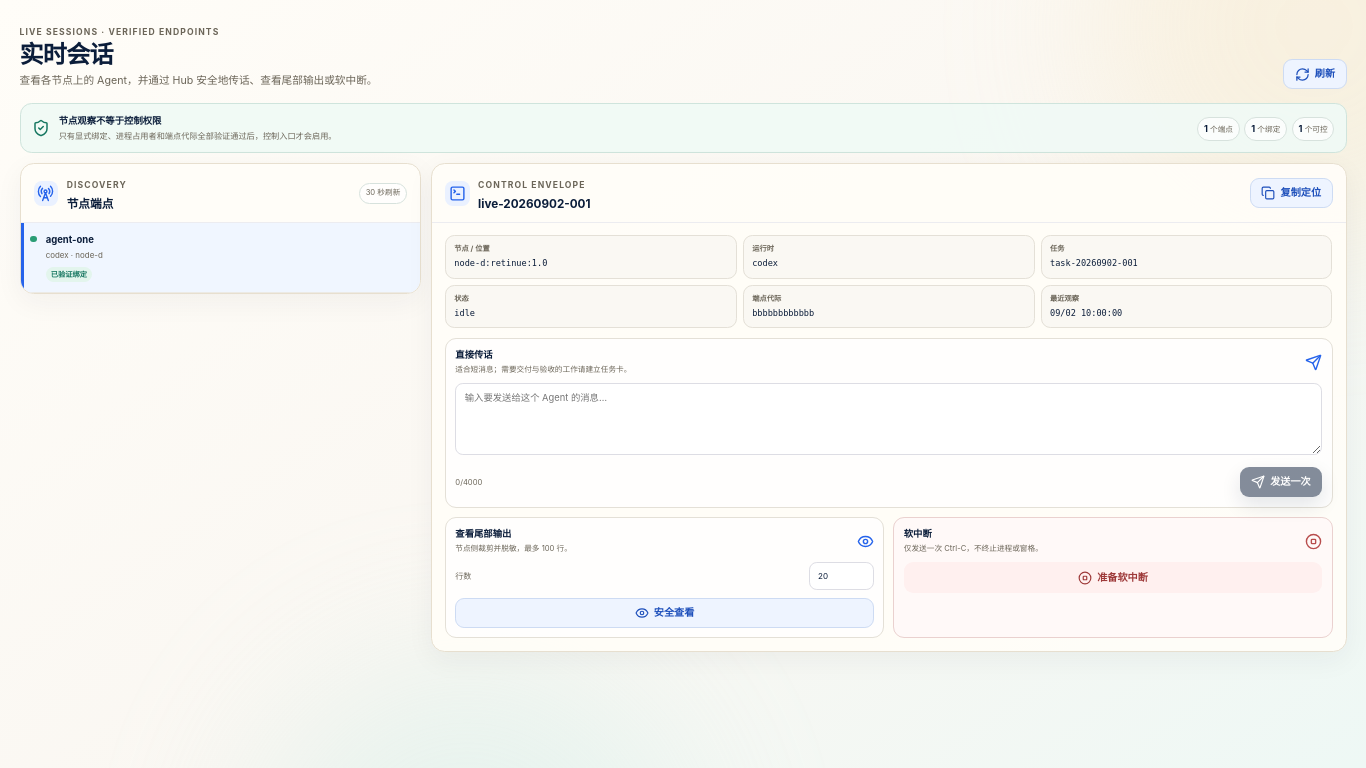
Test: LiveSessions › queues a tell through the Hub control endpoint
Check: the text "agent-one" is shown, box [46, 234, 94, 245]
In the text box with placeholder "输入要发送给这个 Agent 的消息…": (889,419) [455, 383, 1322, 455], type "同步进度"
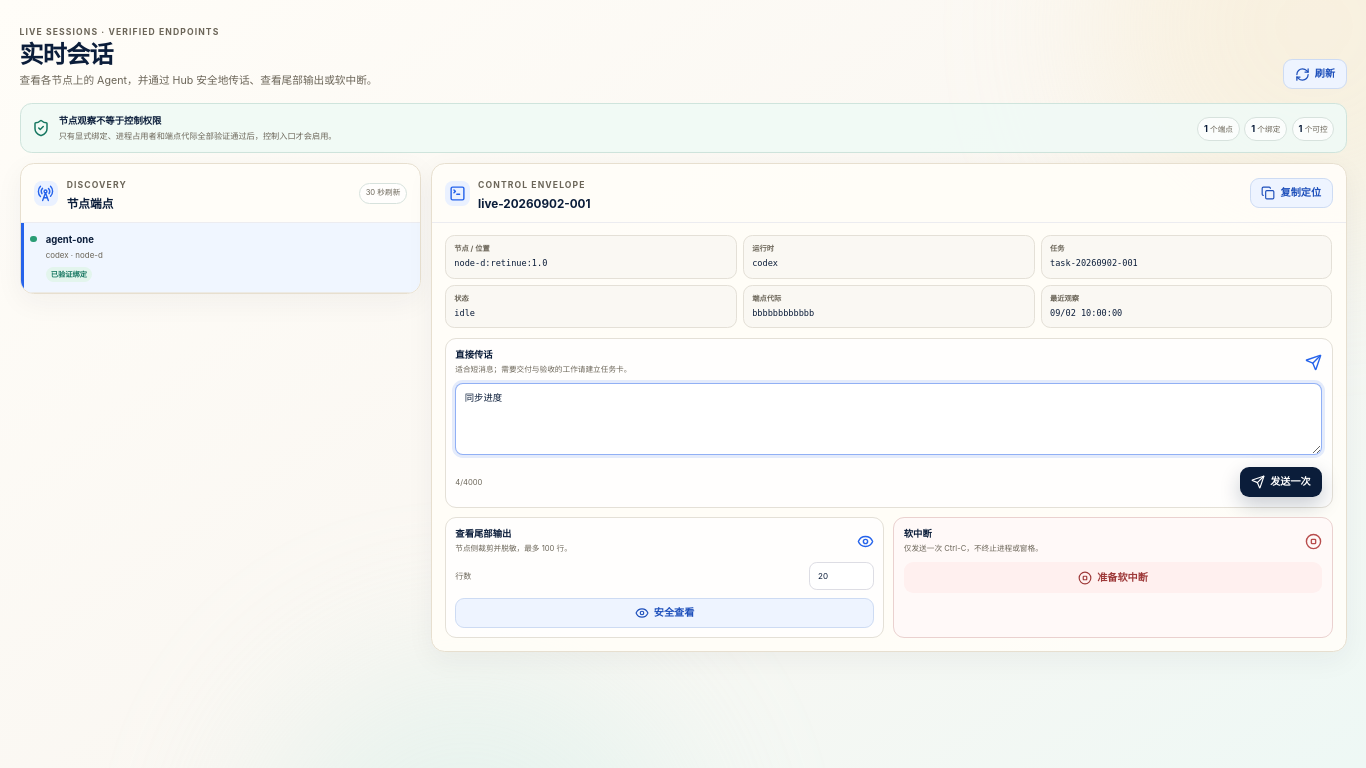
Click the button "发送一次": (1281,482) [1240, 467, 1322, 497]
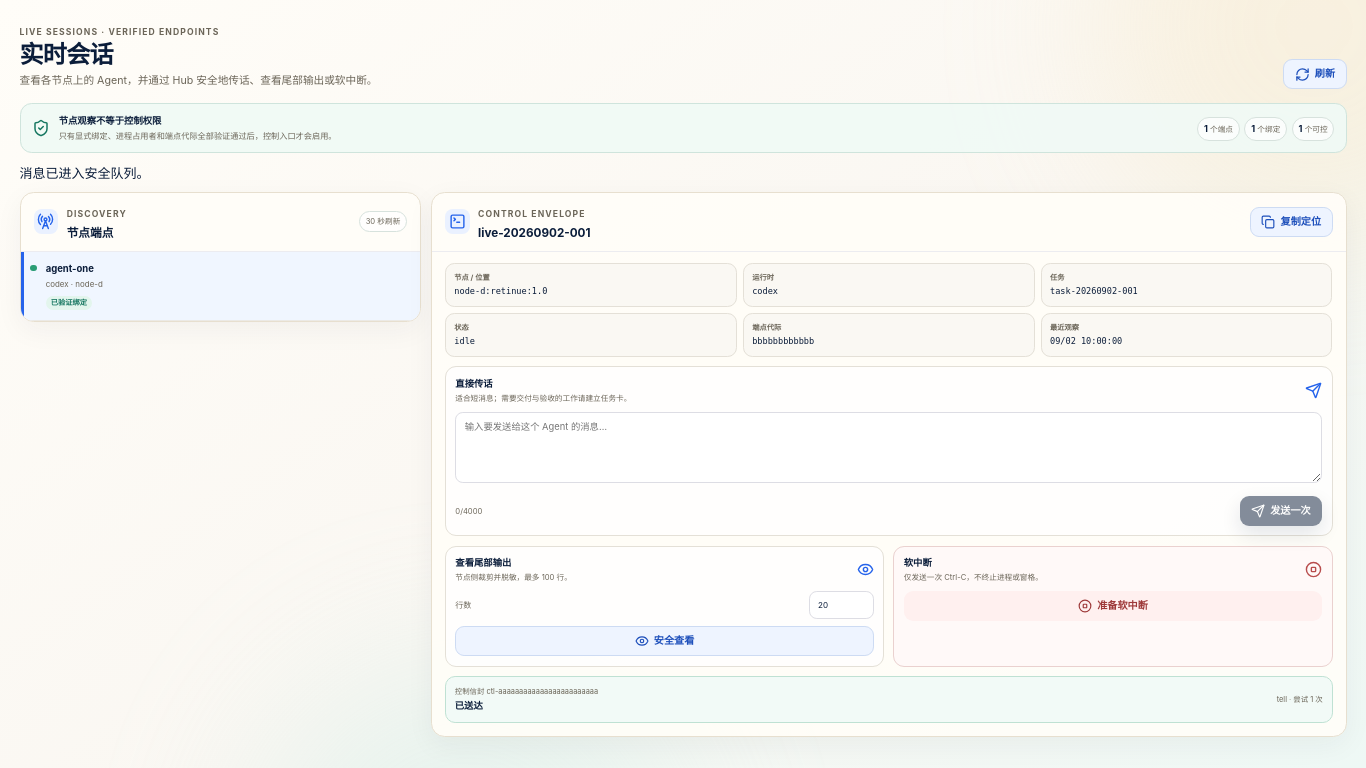
Check: the text "已送达" is shown, box [455, 700, 483, 711]
